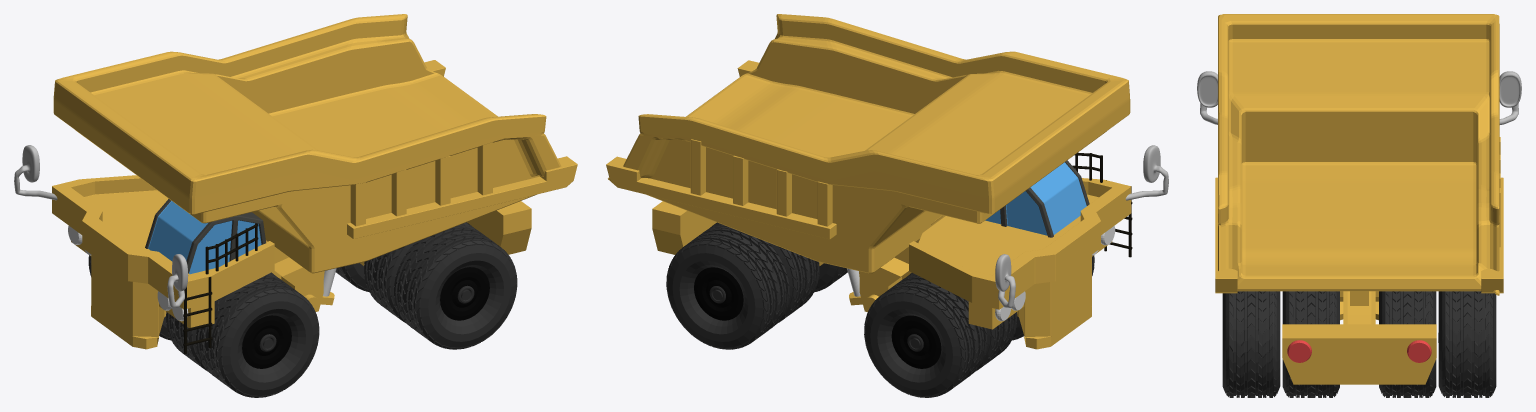
Rendered from truck.fbx.
The picture shows the model from 3 angles, left to right: view 1: azimuth 30°, elevation 25°; view 2: azimuth 150°, elevation 25°; view 3: azimuth 270°, elevation 25°; orthographic projection.
Visible parts, largest first — view 1: Cube.006, Cube, Circle.002, Circle.012, Cube.011, Cube.004, Circle.005, Cube.002, Circle.013, Circle.003, Plane.001, Cube.003 (+3 smaller); view 2: Cube.006, Cube, Circle.002, Circle.012, Cube.011, Cube.004, Circle.005, Cube.002, Circle.006, Circle.008, Plane.001, Cube.003 (+1 smaller); view 3: Cube.006, Circle.002, Cube.002, Circle.005, Cube.011, Plane.001, Cone.002, Cube.005, Cube.001.
Boxes of the visible parts, x1=… form: Cube.006: x1=53, y1=14, x2=561, y2=273; Cube: x1=52, y1=175, x2=274, y2=349; Circle.002: x1=393, y1=224, x2=517, y2=349; Circle.012: x1=88, y1=255, x2=319, y2=397; Cube.011: x1=347, y1=60, x2=577, y2=238; Cube.004: x1=145, y1=199, x2=265, y2=274; Circle.005: x1=335, y1=222, x2=474, y2=322; Cube.002: x1=272, y1=201, x2=531, y2=279; Circle.013: x1=242, y1=315, x2=291, y2=368; Circle.003: x1=440, y1=267, x2=489, y2=320; Plane.001: x1=14, y1=145, x2=188, y2=307; Cube.003: x1=274, y1=257, x2=334, y2=311; Cube.006: x1=608, y1=14, x2=1130, y2=273; Cube: x1=909, y1=178, x2=1131, y2=349; Circle.002: x1=666, y1=225, x2=789, y2=349; Circle.012: x1=864, y1=255, x2=1094, y2=397; Cube.011: x1=606, y1=60, x2=836, y2=239; Cube.004: x1=985, y1=160, x2=1089, y2=237; Circle.005: x1=709, y1=222, x2=847, y2=322; Cube.002: x1=652, y1=201, x2=911, y2=279; Circle.006: x1=891, y1=315, x2=941, y2=368; Circle.008: x1=694, y1=267, x2=743, y2=320; Plane.001: x1=995, y1=145, x2=1168, y2=307; Cube.003: x1=849, y1=257, x2=908, y2=312; Cube.006: x1=1218, y1=14, x2=1499, y2=295; Circle.002: x1=1222, y1=291, x2=1496, y2=397; Cube.002: x1=1282, y1=324, x2=1436, y2=384; Circle.005: x1=1282, y1=291, x2=1436, y2=397; Cube.011: x1=1215, y1=137, x2=1503, y2=293; Plane.001: x1=1197, y1=71, x2=1521, y2=124; Cone.002: x1=1287, y1=340, x2=1431, y2=362; Cube.005: x1=1347, y1=291, x2=1371, y2=324; Cube.001: x1=1343, y1=291, x2=1375, y2=324.
Size of the model in its own units: 8036 by 4423 by 5386.
